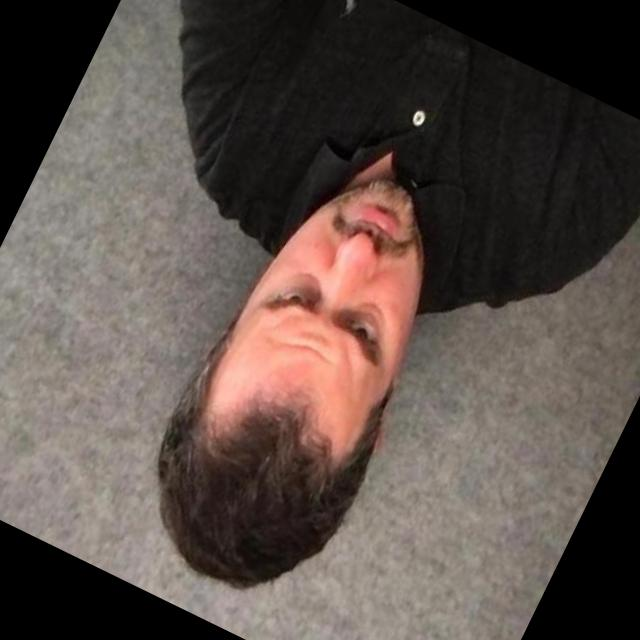bareface: (126, 134, 498, 604)
